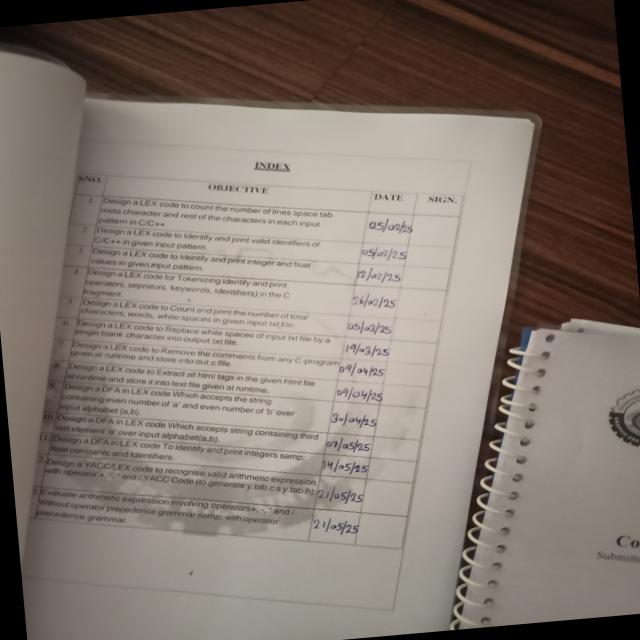notebook: (5, 35, 640, 623)
